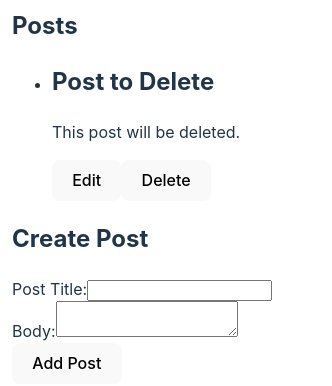
Test: FetchApi Component › delete a post
Check: the heading "Post to Delete" is shown, box [52, 67, 214, 96]
Click the button "Delete": [166, 180] box [121, 160, 211, 201]
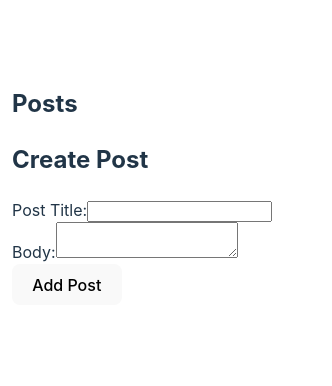
Check: the heading "Post to Delete" is gone
